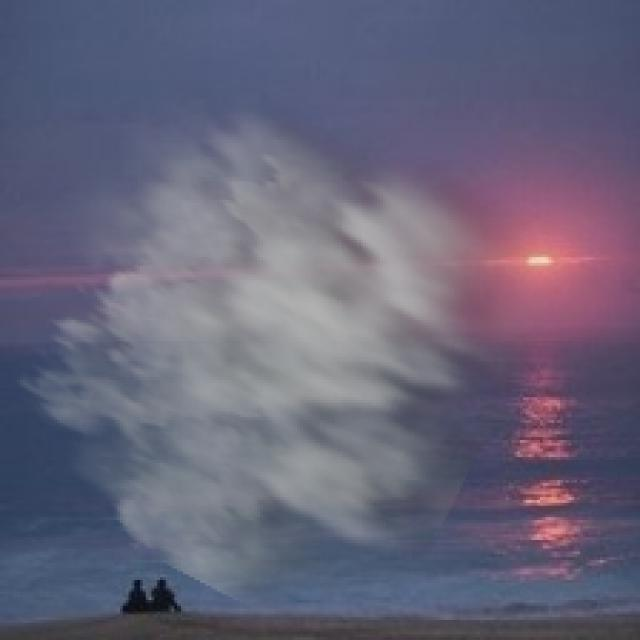smoke: (14, 89, 577, 626)
